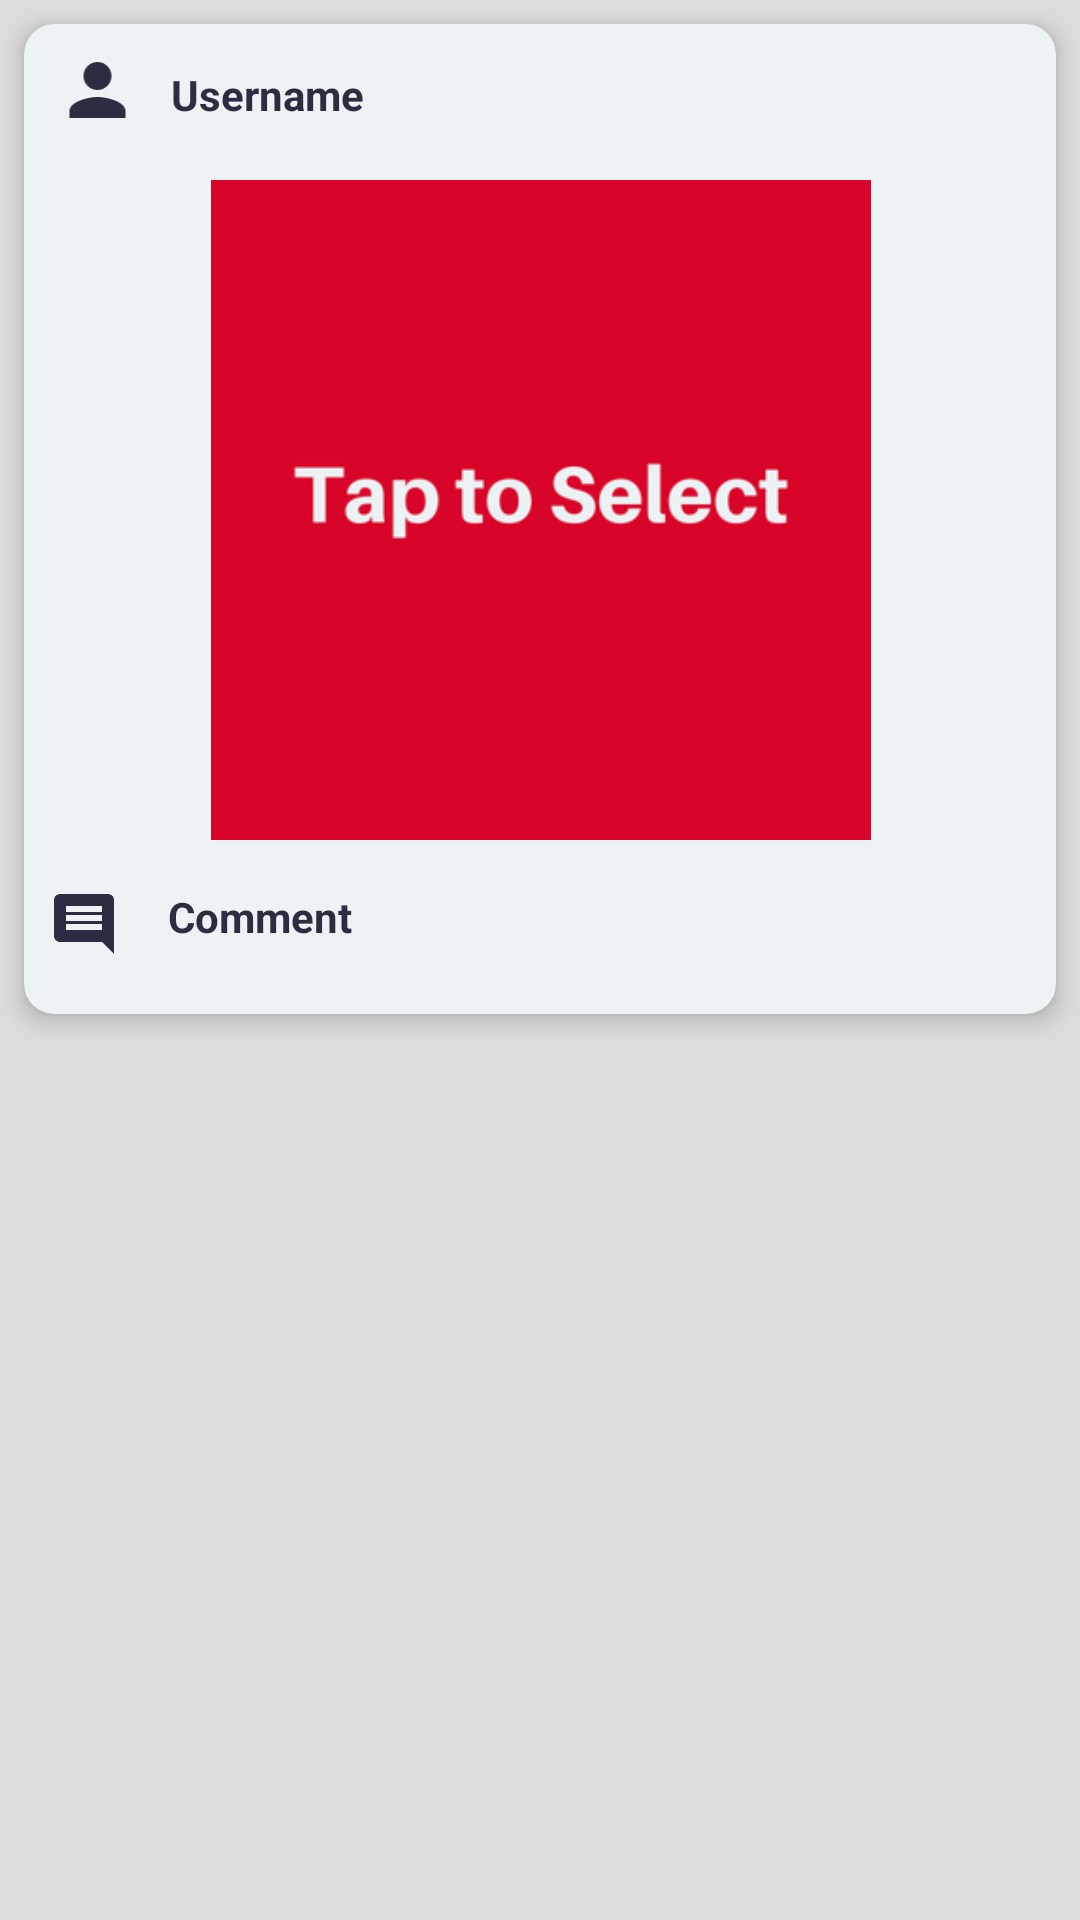

Where icons sit on this 1080 × 1920 app screen, as (x1, y1, x2, y2):
person: (69, 62, 126, 118)
